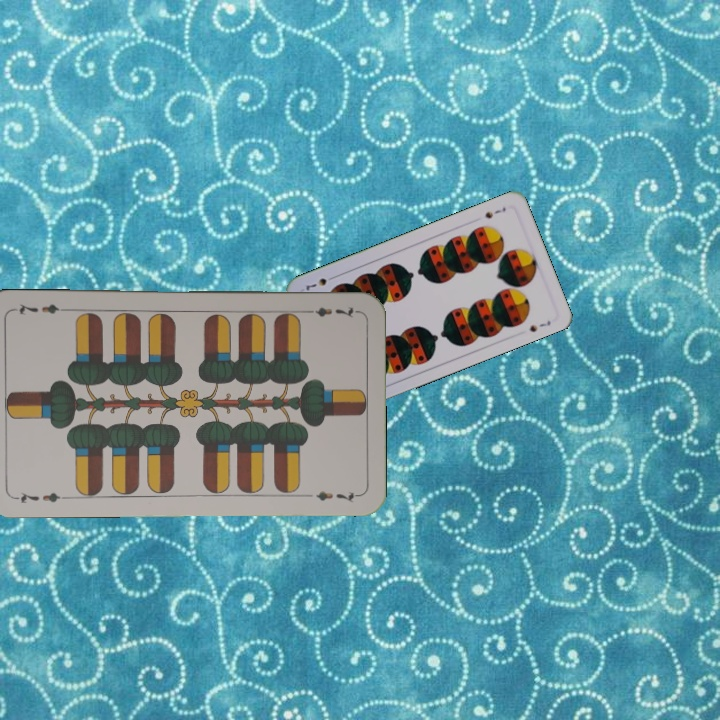E7: (300, 303, 359, 321), (11, 488, 70, 506)
S7: (481, 203, 508, 221)
